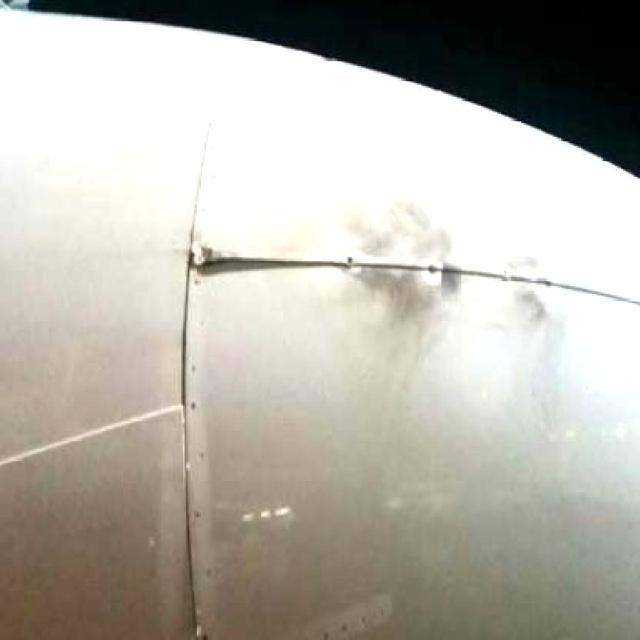crack: (198, 252, 347, 275)
